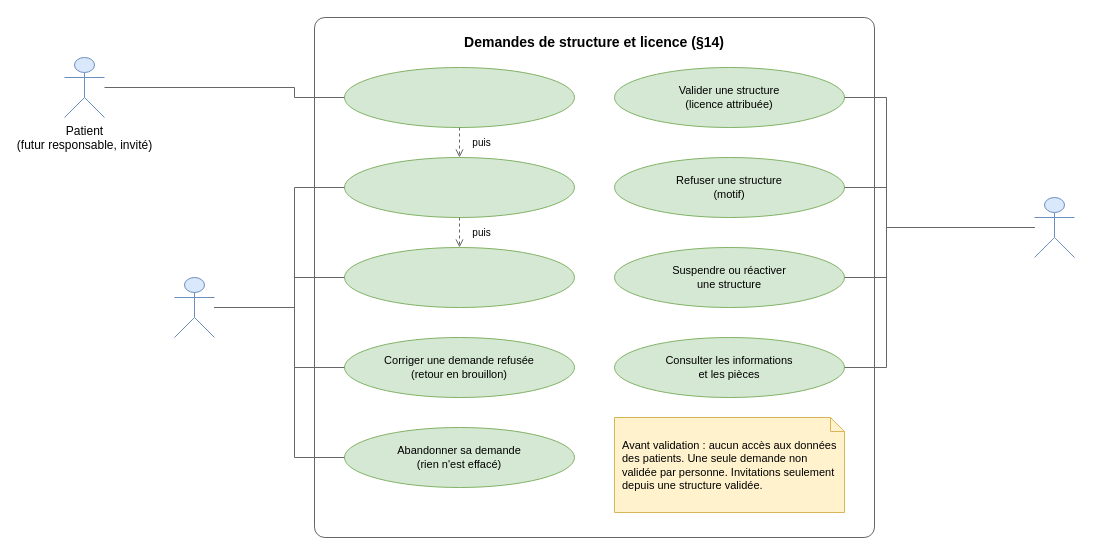
This 1110x555 diagram has some shape labels left out. The centre of each missing label's shape, as x and y in pixels:
"Administrateur LaafiCare" belongs at point (1054, 227).
"Créer une structure (et son compte professionnel si besoin)" belongs at point (459, 97).
"Déposer les pièces justificatives" belongs at point (459, 187).
"Responsable de structure" belongs at point (194, 307).
"Soumettre la demande (pièces exigées vérifiées)" belongs at point (459, 277).
